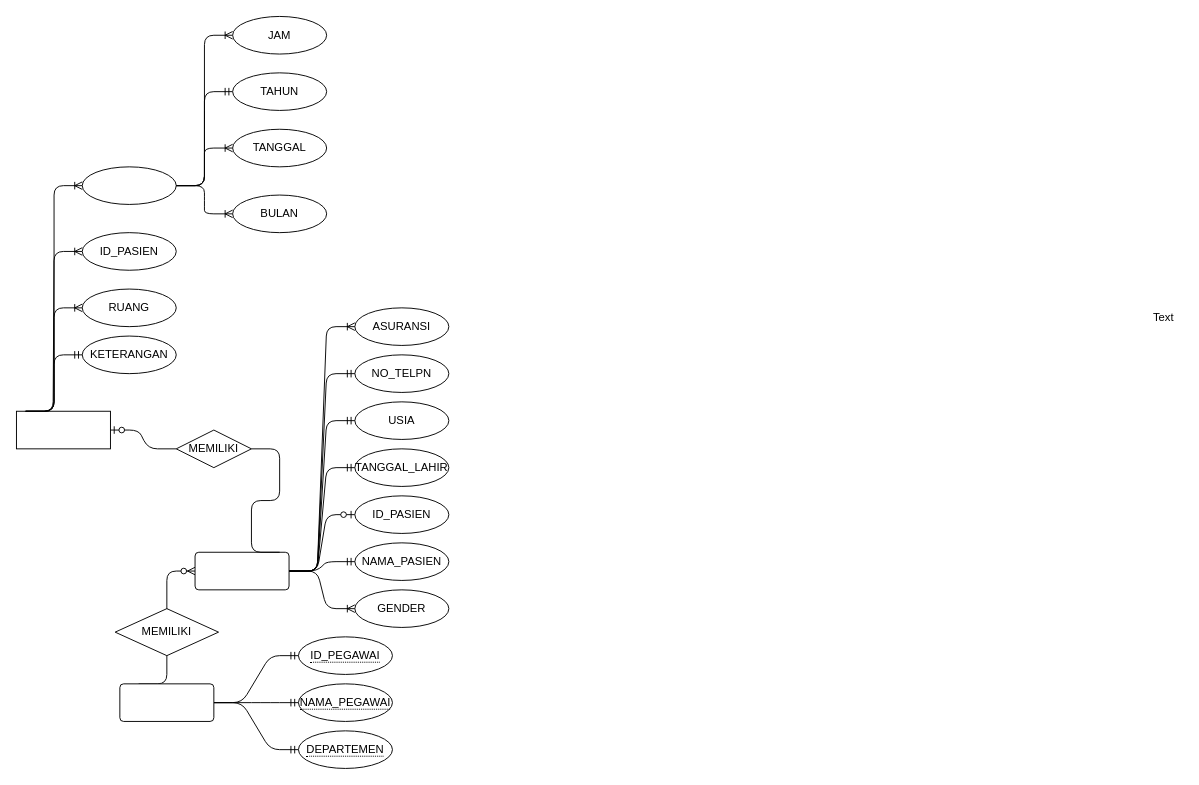
Image size: 1199x785. Some labels were removed from this diagram. Here are the shapes that lost their labels. From the top down, the centre of each, then its label:
At (x=128, y=185): "WAKTU".
At (x=63, y=429): "JANJI_KONSUL".
At (x=241, y=570): "PASIEN".
At (x=166, y=702): "PEGAWAI".
